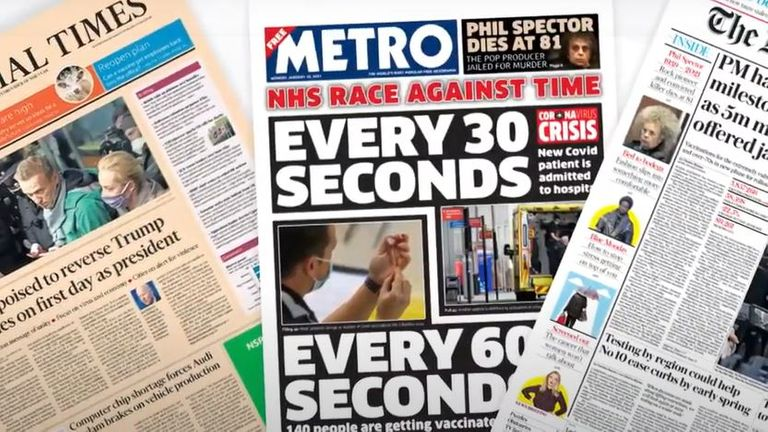news_paper: (238, 10, 657, 432), (2, 3, 318, 432), (455, 4, 768, 431)
